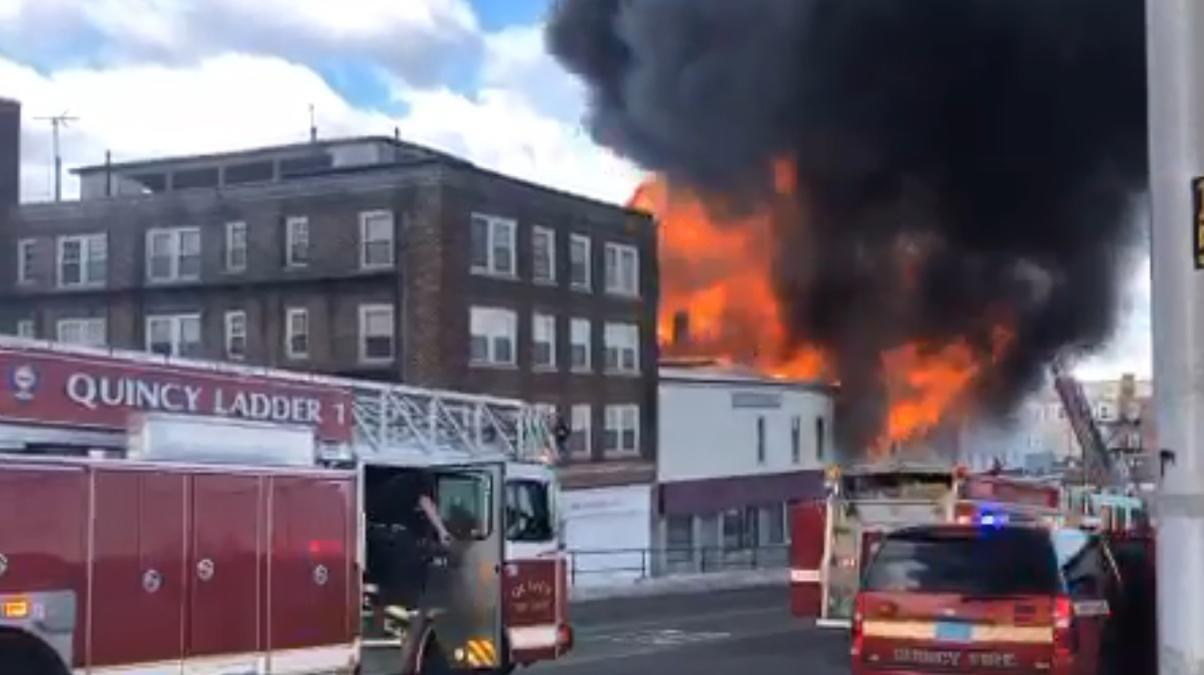Fire: (620, 146, 1036, 474)
